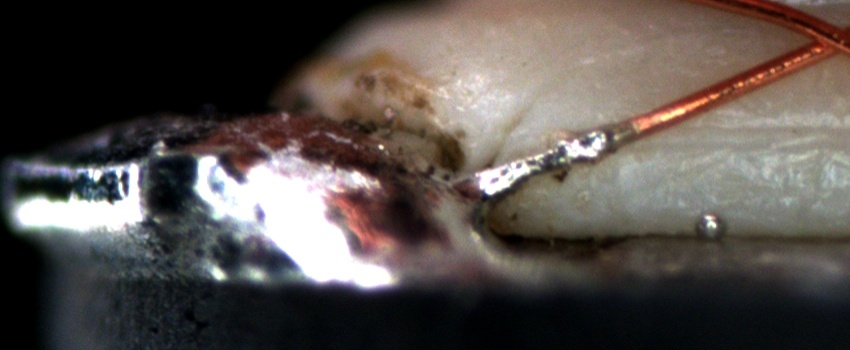CL: (781, 7, 847, 67)
DL: (650, 99, 850, 163)
TS: (482, 119, 633, 195)
TTCW: (463, 107, 677, 202)
